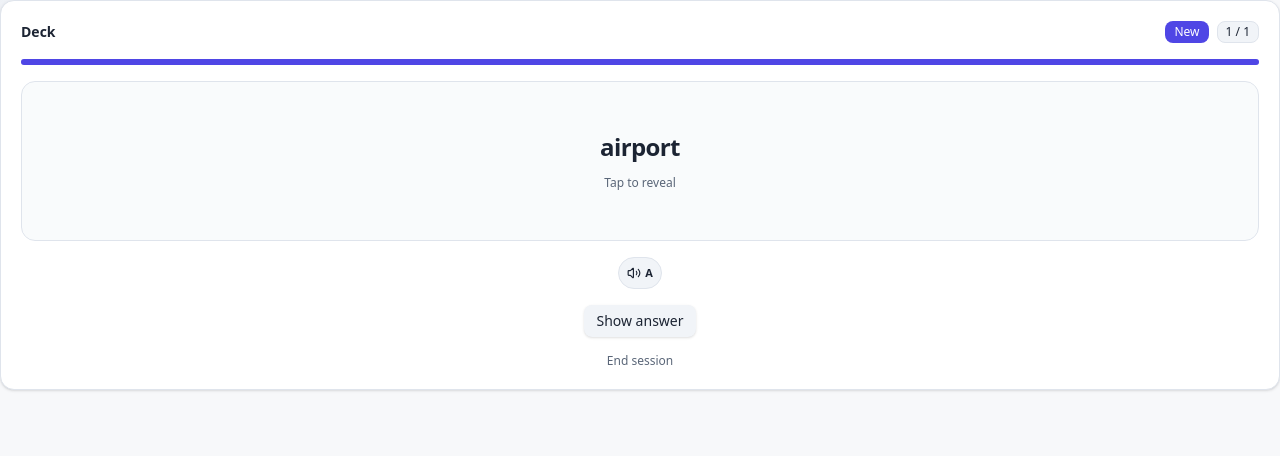
Test case: StudySession › solo ofrece «Refresh» cuando el contenedor sabe reiniciar la sesión
Click the button with aria-label "Flip card" at (640, 161), box [21,81,1259,241]
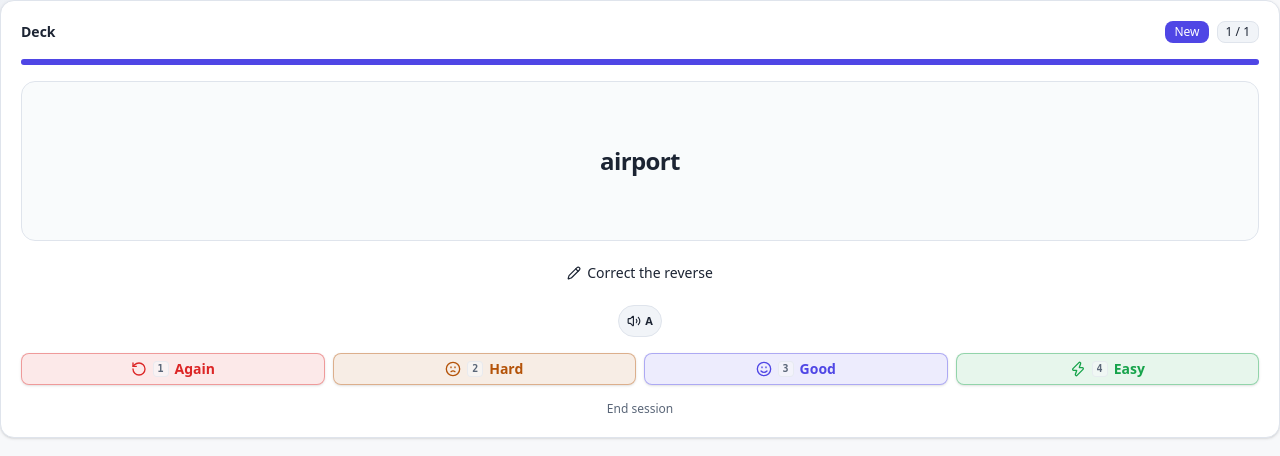
Click the text "Good" at (818, 369), box [800,359,836,379]
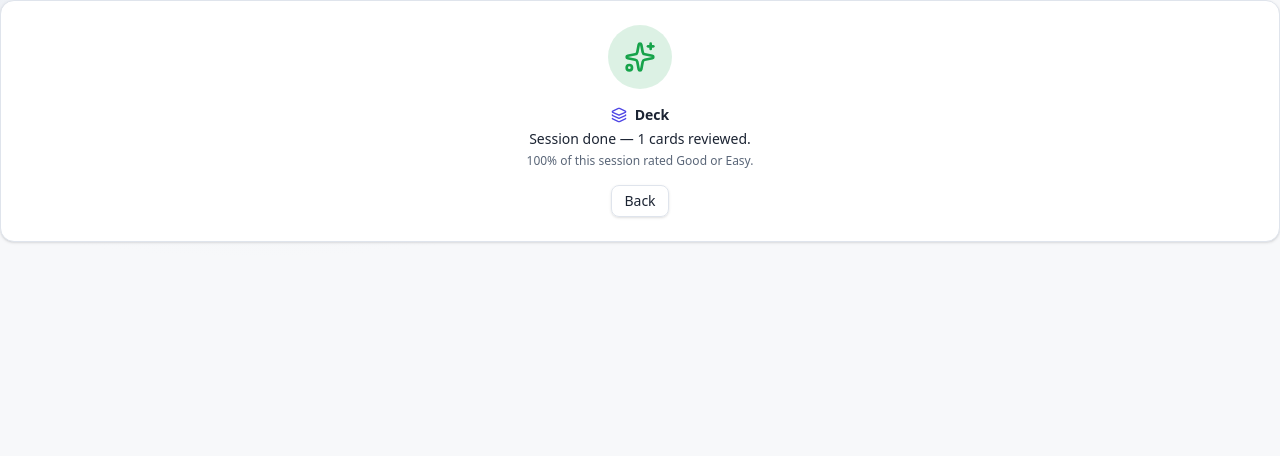
Now the text "Session done — 1 cards reviewed." is shown, box [529,129,751,149]
